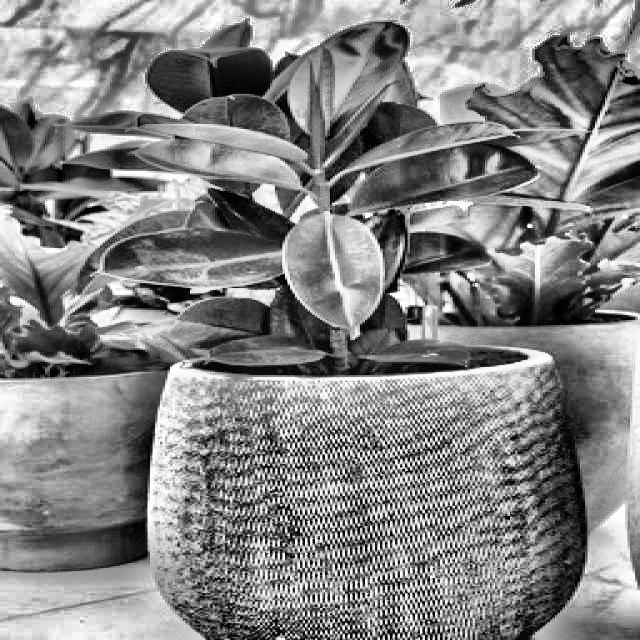plants: (149, 76, 515, 640), (0, 208, 141, 587), (525, 38, 640, 380)
